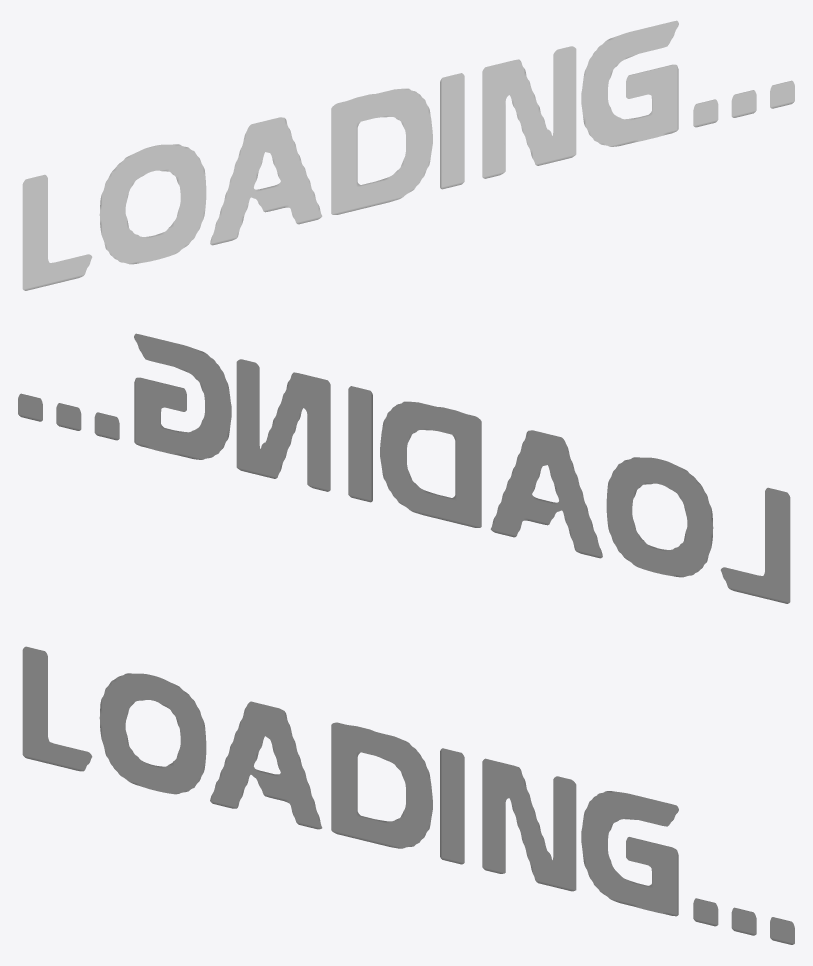
Rendered from Mesh_10_f1c25a83__Watford_DB-32_0296d893_9c9708.obj.
3 renders of one model, top to bottom at view 1: azimuth 30°, elevation 25°; view 2: azimuth 150°, elevation 25°; view 3: azimuth 330°, elevation 25°, orthographic.
Bounding box in the file's own units: 82 × 12.5 × 0.
1 material, 1 textured.
